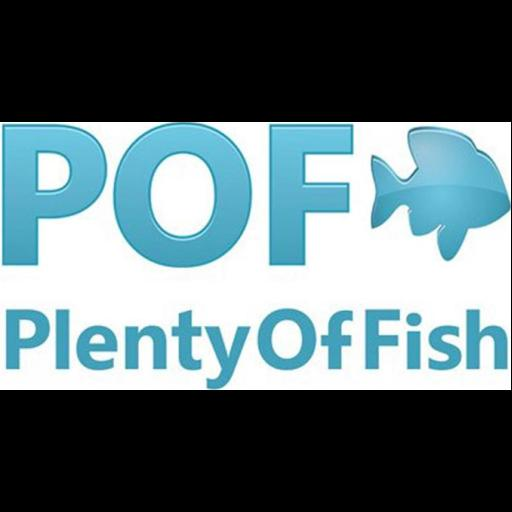POF: (0, 122, 511, 390)
